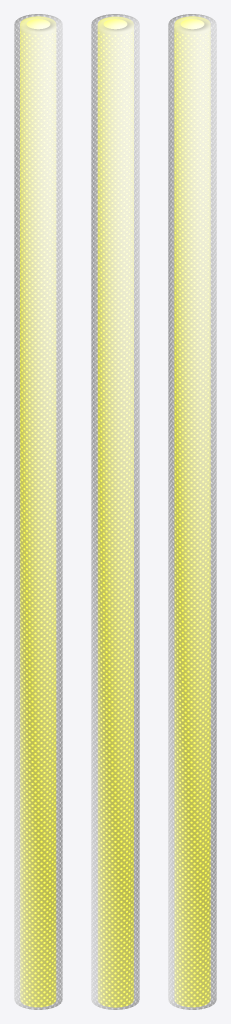
The picture shows the model from 3 angles, left to right: view 1: azimuth 30°, elevation 25°; view 2: azimuth 210°, elevation 25°; view 3: azimuth 330°, elevation 25°; orthographic projection.
Parts seen in each view (by area): view 1: Cylinder015, Cylinder006; view 2: Cylinder015, Cylinder006; view 3: Cylinder015, Cylinder006.
Part boxes in pixels (x1,y1,x2,y2): Cylinder015: (14,14,62,1009); Cylinder006: (20,16,56,1007); Cylinder015: (91,14,139,1009); Cylinder006: (97,16,133,1007); Cylinder015: (168,14,216,1009); Cylinder006: (174,16,210,1007).
Size of the model in its own units: 0.0371 by 0.8321 by 0.0371.
Materials: 2 (1 with a texture image).
